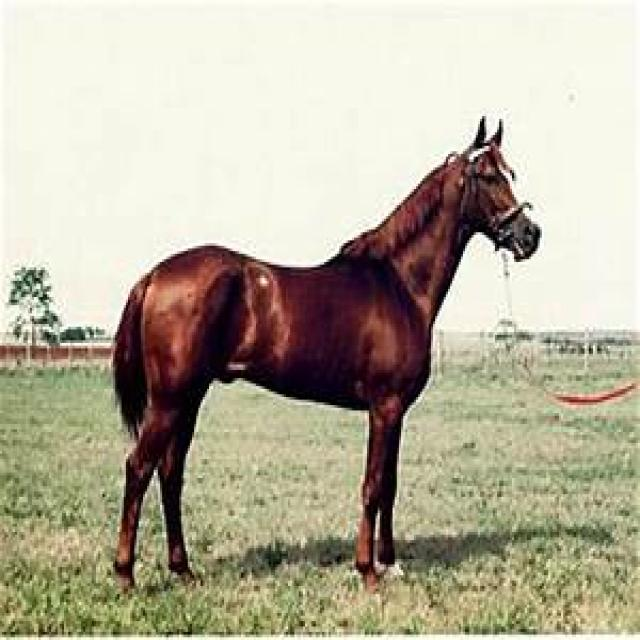horse: (111, 119, 542, 594)
